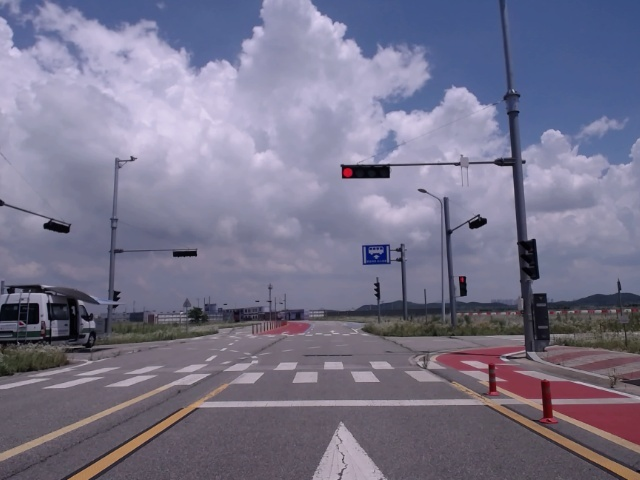red_4: (342, 167, 390, 178)
